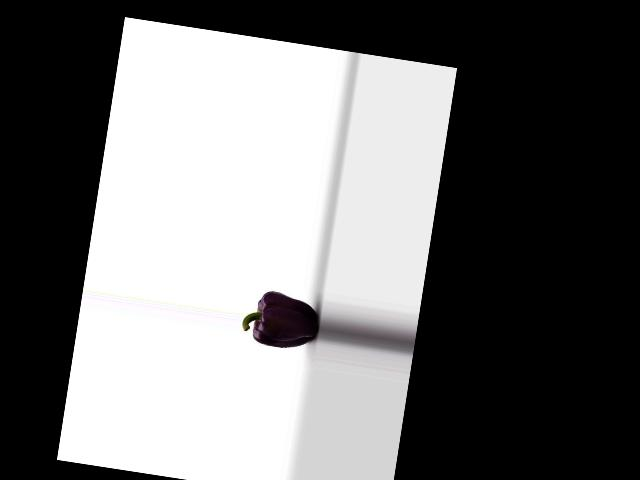bell_pepper: (240, 283, 321, 358)
